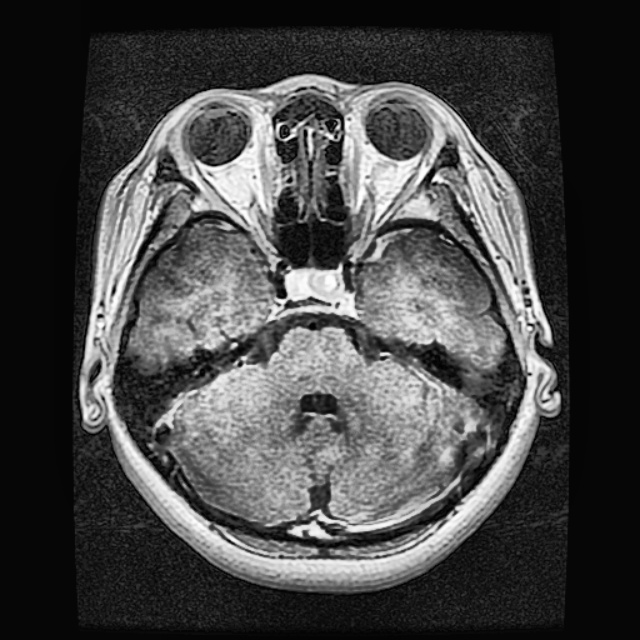Pituitary: (285, 269, 354, 313)
